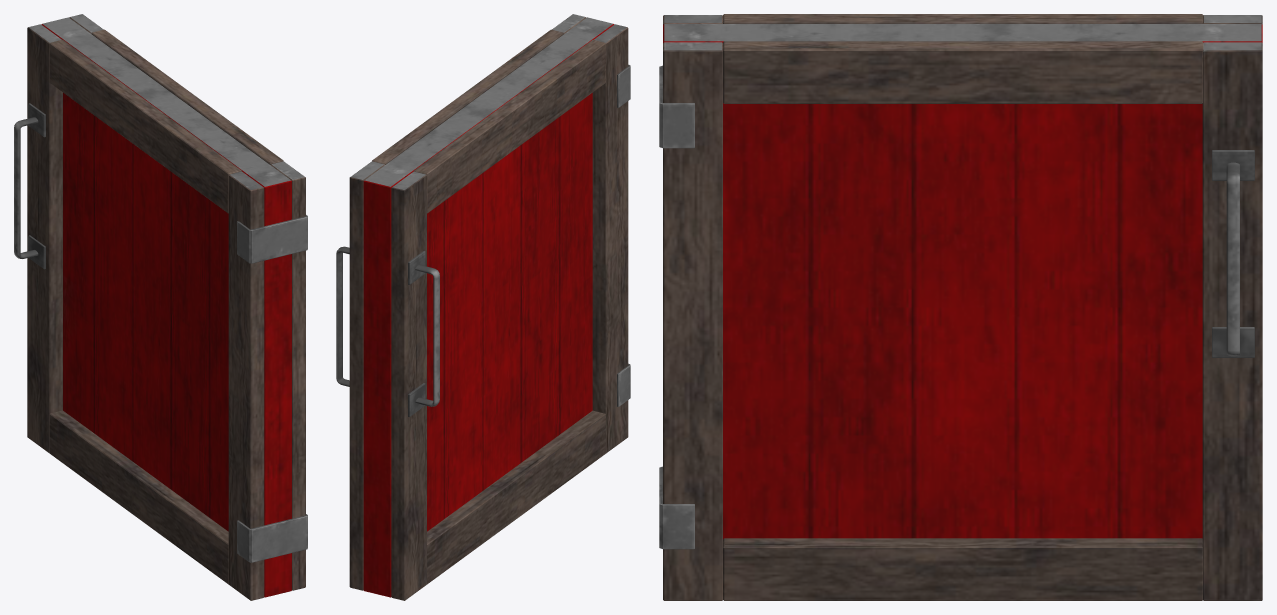
Rendered from Stable_DoorSmall_LP.glb.
3 renders of one model, left to right at view 1: azimuth 30°, elevation 25°; view 2: azimuth 150°, elevation 25°; view 3: azimuth 270°, elevation 25°, orthographic. The views are drawn at different scales.
Visible parts, largest first — view 1: Stable_DoorSmall_LP; view 2: Stable_DoorSmall_LP; view 3: Stable_DoorSmall_LP.
Part boxes in pixels (bbox=[...]): Stable_DoorSmall_LP: bbox=[14, 14, 307, 600]; Stable_DoorSmall_LP: bbox=[336, 14, 630, 600]; Stable_DoorSmall_LP: bbox=[659, 14, 1262, 600].
Bounding box in the file's own units: 0.5648 × 2.2 × 2.18.
2 materials, 2 textured.
